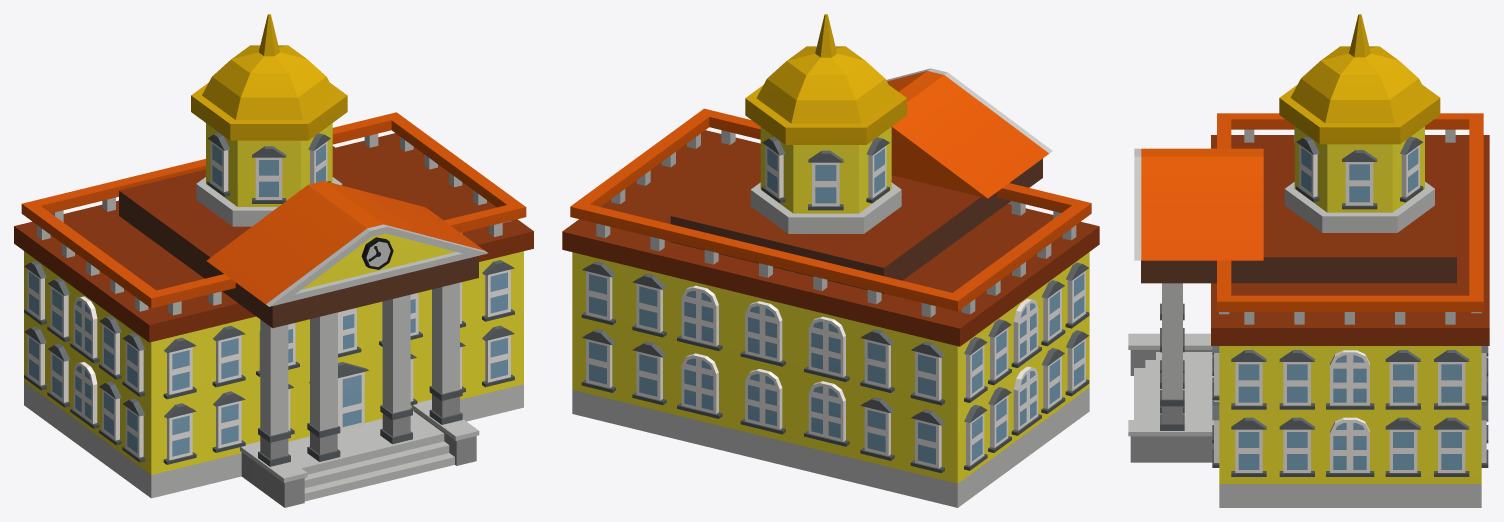
The model's file is city hall.fbx.
3 views of the same model, side by side, from view 1: azimuth 30°, elevation 25°; view 2: azimuth 150°, elevation 25°; view 3: azimuth 270°, elevation 25° (orthographic). The views are drawn at different scales.
Visible parts, largest first — view 1: city hall; view 2: city hall; view 3: city hall.
Boxes of the visible parts, x1,y1,x2,y2 form: city hall: [14, 14, 533, 507]; city hall: [562, 14, 1099, 507]; city hall: [1128, 14, 1489, 507].
Size of the model in its own units: 1552 by 1497 by 1226.
Materials: 1 (1 with a texture image).
